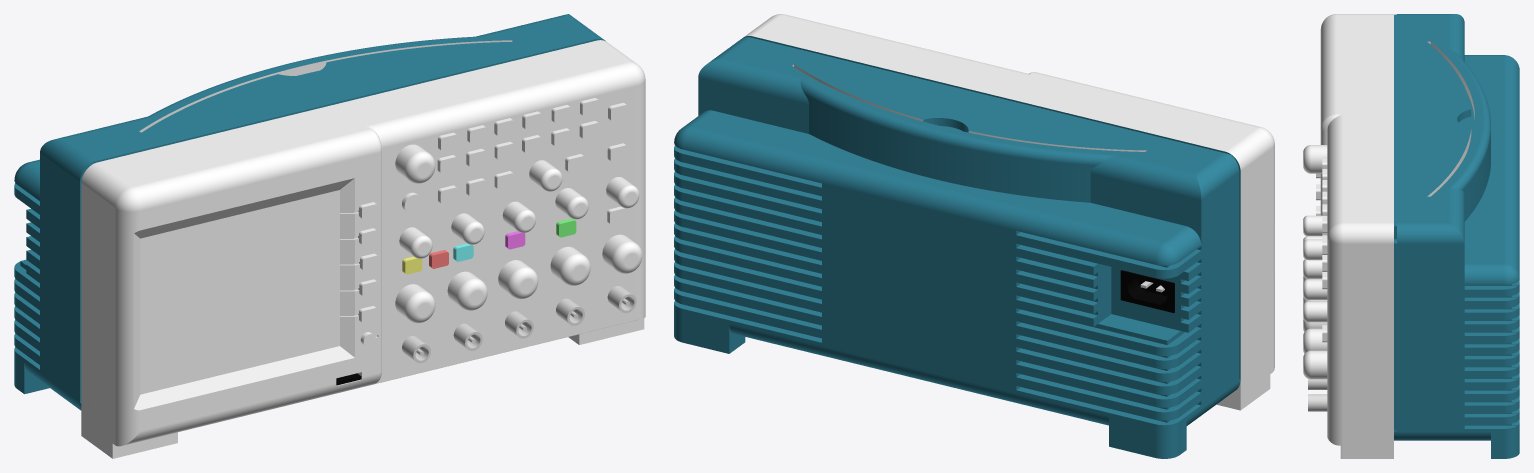
File: oscilloscope_tektronix_split.glb
3 views of the same model, side by side, from view 1: azimuth 30°, elevation 25°; view 2: azimuth 150°, elevation 25°; view 3: azimuth 270°, elevation 25° (orthographic). The views are drawn at different scales.
Visible parts, largest first — view 1: Oscillo_Tektronix_TDS2000_3a76c2, Oscillo_Tektronix_TDS2000_96ac5a, Oscillo_Tektronix_TDS2000_81764b; view 2: Oscillo_Tektronix_TDS2000_96ac5a, Oscillo_Tektronix_TDS2000_3a76c2, Oscillo_Tektronix_TDS2000_c5f5aa; view 3: Oscillo_Tektronix_TDS2000_96ac5a, Oscillo_Tektronix_TDS2000_3a76c2, Oscillo_Tektronix_TDS2000_81764b.
Boxes of the visible parts, <box> form: Oscillo_Tektronix_TDS2000_3a76c2: <box>81,40,645,458</box>; Oscillo_Tektronix_TDS2000_96ac5a: <box>14,14,605,410</box>; Oscillo_Tektronix_TDS2000_81764b: <box>402,286,636,363</box>; Oscillo_Tektronix_TDS2000_96ac5a: <box>674,36,1240,458</box>; Oscillo_Tektronix_TDS2000_3a76c2: <box>744,14,1274,410</box>; Oscillo_Tektronix_TDS2000_c5f5aa: <box>1120,270,1174,312</box>; Oscillo_Tektronix_TDS2000_96ac5a: <box>1394,14,1519,458</box>; Oscillo_Tektronix_TDS2000_3a76c2: <box>1303,14,1474,458</box>; Oscillo_Tektronix_TDS2000_81764b: <box>1308,379,1327,411</box>.
Bounding box in the file's own units: 0.326 × 0.158 × 0.1352.
